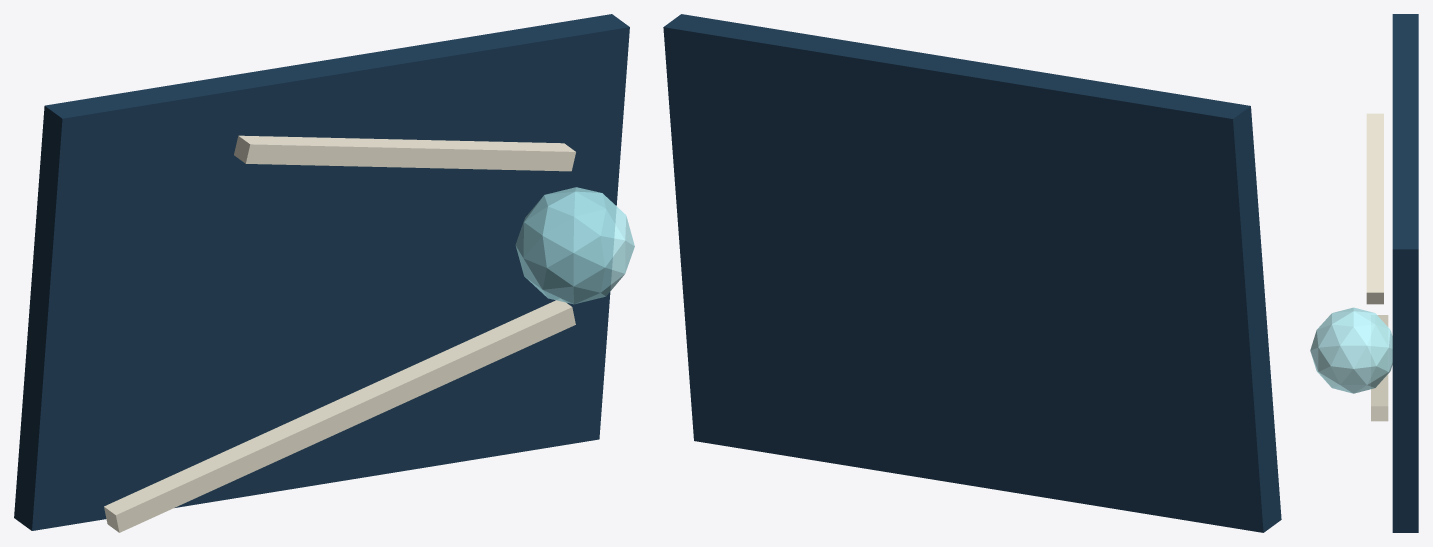
The model's file is 02_world_prop_polish.glb.
3 renders of one model, left to right at view 1: azimuth 30°, elevation 25°; view 2: azimuth 150°, elevation 25°; view 3: azimuth 270°, elevation 25°, orthographic. The views are drawn at different scales.
Parts seen in each view (by area): view 1: object_overlay_plate, edge_wear_a, glow_socket, edge_wear_b; view 2: object_overlay_plate; view 3: object_overlay_plate, glow_socket, edge_wear_b, edge_wear_a.
Boxes of the visible parts, bbox=[...] form: object_overlay_plate: bbox=[14, 14, 629, 530]; edge_wear_a: bbox=[104, 299, 575, 532]; glow_socket: bbox=[515, 187, 634, 304]; edge_wear_b: bbox=[234, 135, 575, 171]; object_overlay_plate: bbox=[663, 14, 1281, 532]; object_overlay_plate: bbox=[1392, 14, 1418, 532]; glow_socket: bbox=[1310, 307, 1392, 393]; edge_wear_b: bbox=[1366, 113, 1383, 304]; edge_wear_a: bbox=[1371, 315, 1388, 421].
Bounding box in the file's own units: 1.16 × 0.8342 × 0.25.
